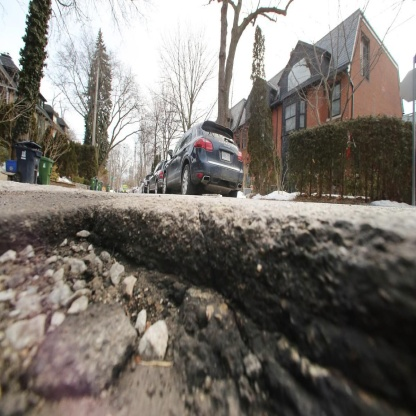pothole: (6, 184, 416, 415)
